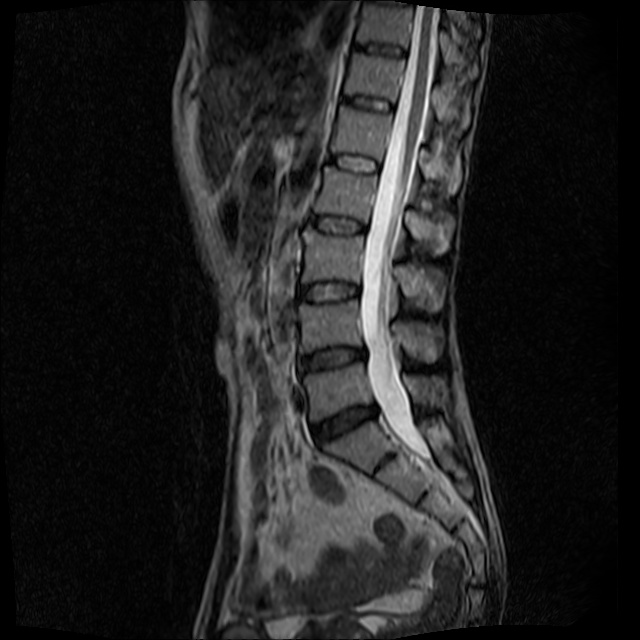L1,v2: (321, 108, 406, 151)
L1-L2,v2: (309, 133, 395, 191)
L2,v2: (309, 170, 382, 220)
L2-L3,v1: (299, 198, 373, 249)
L3,v2: (296, 234, 373, 282)
L3-L4,v1: (289, 262, 371, 320)
L4,v2: (289, 297, 369, 350)
L4-L5,v2: (290, 329, 374, 384)
L5,v2: (293, 363, 379, 413)
L5-S1,v2: (299, 398, 393, 445)
T12-L1,v1: (326, 78, 410, 127)
